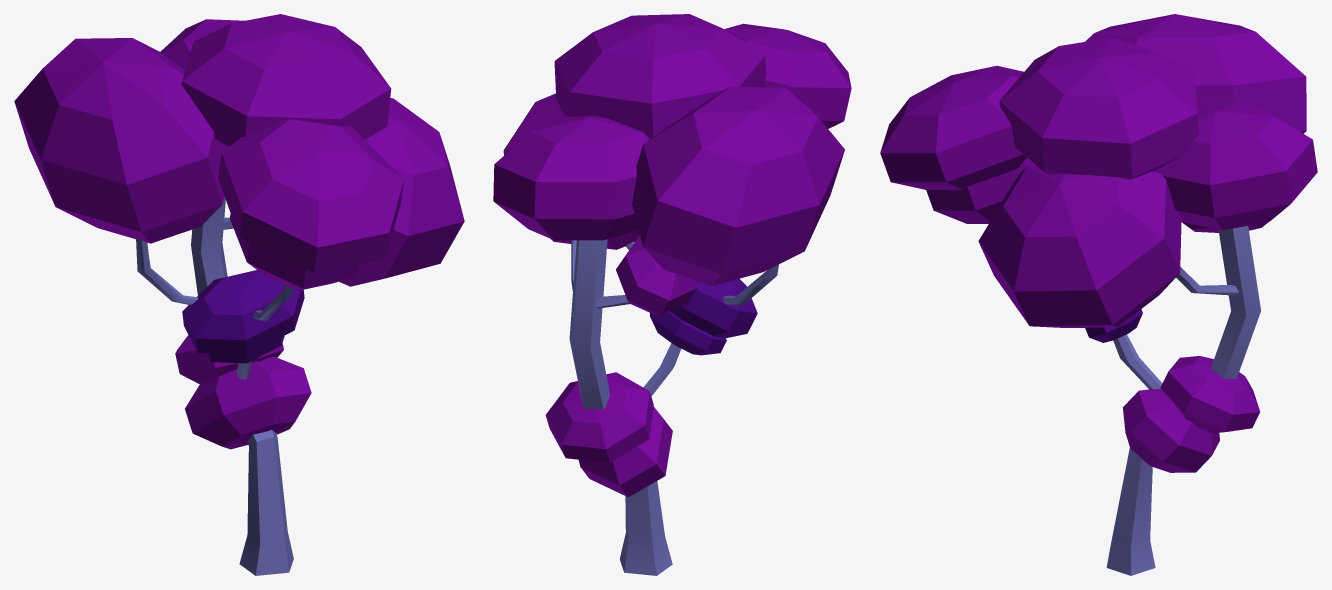
The model's file is magic_leaf_tree_bent_purple.fbx.
The picture shows the model from 3 angles, left to right: view 1: azimuth 30°, elevation 25°; view 2: azimuth 150°, elevation 25°; view 3: azimuth 270°, elevation 25°; orthographic projection. The views are drawn at different scales.
Parts seen in each view (by area): view 1: pSphere8, pSphere6, pSphere9, pSphere4, pSphere10, pCylinder1, pSphere2, pSphere14, pSphere11, pSphere7, pCylinder7, pSphere12; view 2: pSphere8, pSphere9, pSphere7, pCylinder1, pSphere11, pSphere6, pSphere10, pSphere13, pSphere2, pSphere12, pSphere4, pCylinder7 (+1 smaller); view 3: pSphere4, pSphere9, pSphere7, pSphere6, pSphere8, pCylinder1, pSphere10, pSphere11, pSphere14, pCylinder2, pSphere12, pCylinder3.
Boxes of the visible parts, left/top/right/bottom form: pSphere8: left=14, top=38, right=224, bottom=243; pSphere6: left=218, top=118, right=403, bottom=272; pSphere9: left=181, top=14, right=391, bottom=149; pSphere4: left=339, top=98, right=464, bottom=286; pSphere10: left=185, top=357, right=311, bottom=449; pCylinder1: left=191, top=196, right=293, bottom=575; pSphere2: left=182, top=270, right=304, bottom=354; pSphere14: left=230, top=214, right=358, bottom=290; pSphere11: left=175, top=335, right=283, bottom=384; pSphere7: left=160, top=19, right=244, bottom=70; pCylinder7: left=136, top=238, right=198, bottom=304; pSphere12: left=206, top=335, right=284, bottom=363; pSphere8: left=632, top=86, right=844, bottom=285; pSphere9: left=554, top=14, right=766, bottom=138; pSphere7: left=493, top=115, right=649, bottom=240; pCylinder1: left=569, top=239, right=672, bottom=575; pSphere11: left=545, top=372, right=653, bottom=462; pSphere6: left=724, top=23, right=851, bottom=128; pSphere10: left=578, top=407, right=672, bottom=497; pSphere13: left=616, top=235, right=698, bottom=314; pSphere2: left=669, top=278, right=757, bottom=337; pSphere12: left=650, top=311, right=726, bottom=355; pSphere4: left=503, top=93, right=639, bottom=249; pCylinder7: left=723, top=264, right=778, bottom=305; pSphere4: left=978, top=164, right=1181, bottom=327; pSphere9: left=999, top=37, right=1198, bottom=179; pSphere7: left=1155, top=100, right=1317, bottom=230; pSphere6: left=880, top=65, right=1027, bottom=190; pSphere8: left=1085, top=14, right=1306, bottom=133; pCylinder1: left=1106, top=225, right=1260, bottom=575; pSphere10: left=1123, top=389, right=1219, bottom=472; pSphere11: left=1160, top=356, right=1259, bottom=433; pSphere14: left=926, top=158, right=1033, bottom=223; pCylinder2: left=1113, top=334, right=1162, bottom=389; pSphere12: left=1085, top=309, right=1142, bottom=342; pCylinder3: left=1176, top=267, right=1238, bottom=295.
Size of the model in its own units: 30.2 by 42.73 by 33.34.
